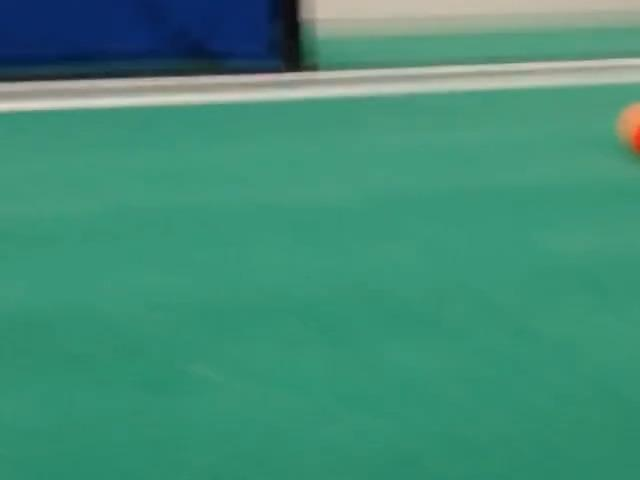Ball: (617, 103, 639, 155)
